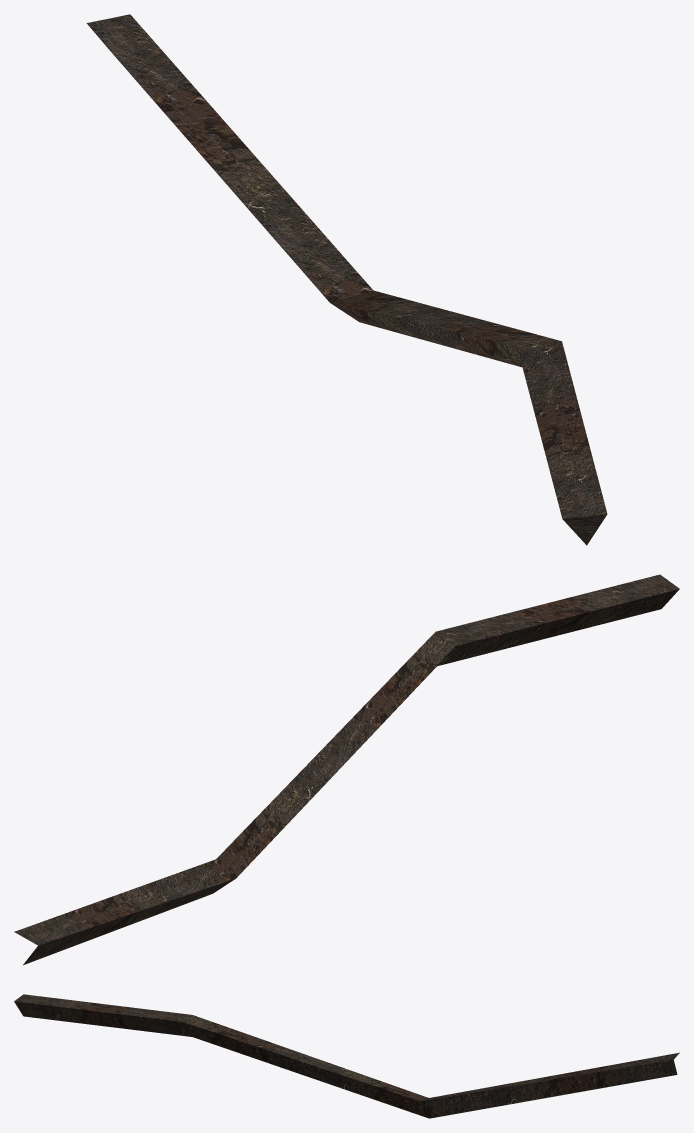
The model's file is prop_rubble_bar_sm_02.glb.
3 views of the same model, one above another, from view 1: azimuth 30°, elevation 25°; view 2: azimuth 150°, elevation 25°; view 3: azimuth 270°, elevation 25° (orthographic). The views are drawn at different scales.
Size of the model in its own units: 11.89 by 8.95 by 62.86.
Materials: 1 (1 with a texture image).
